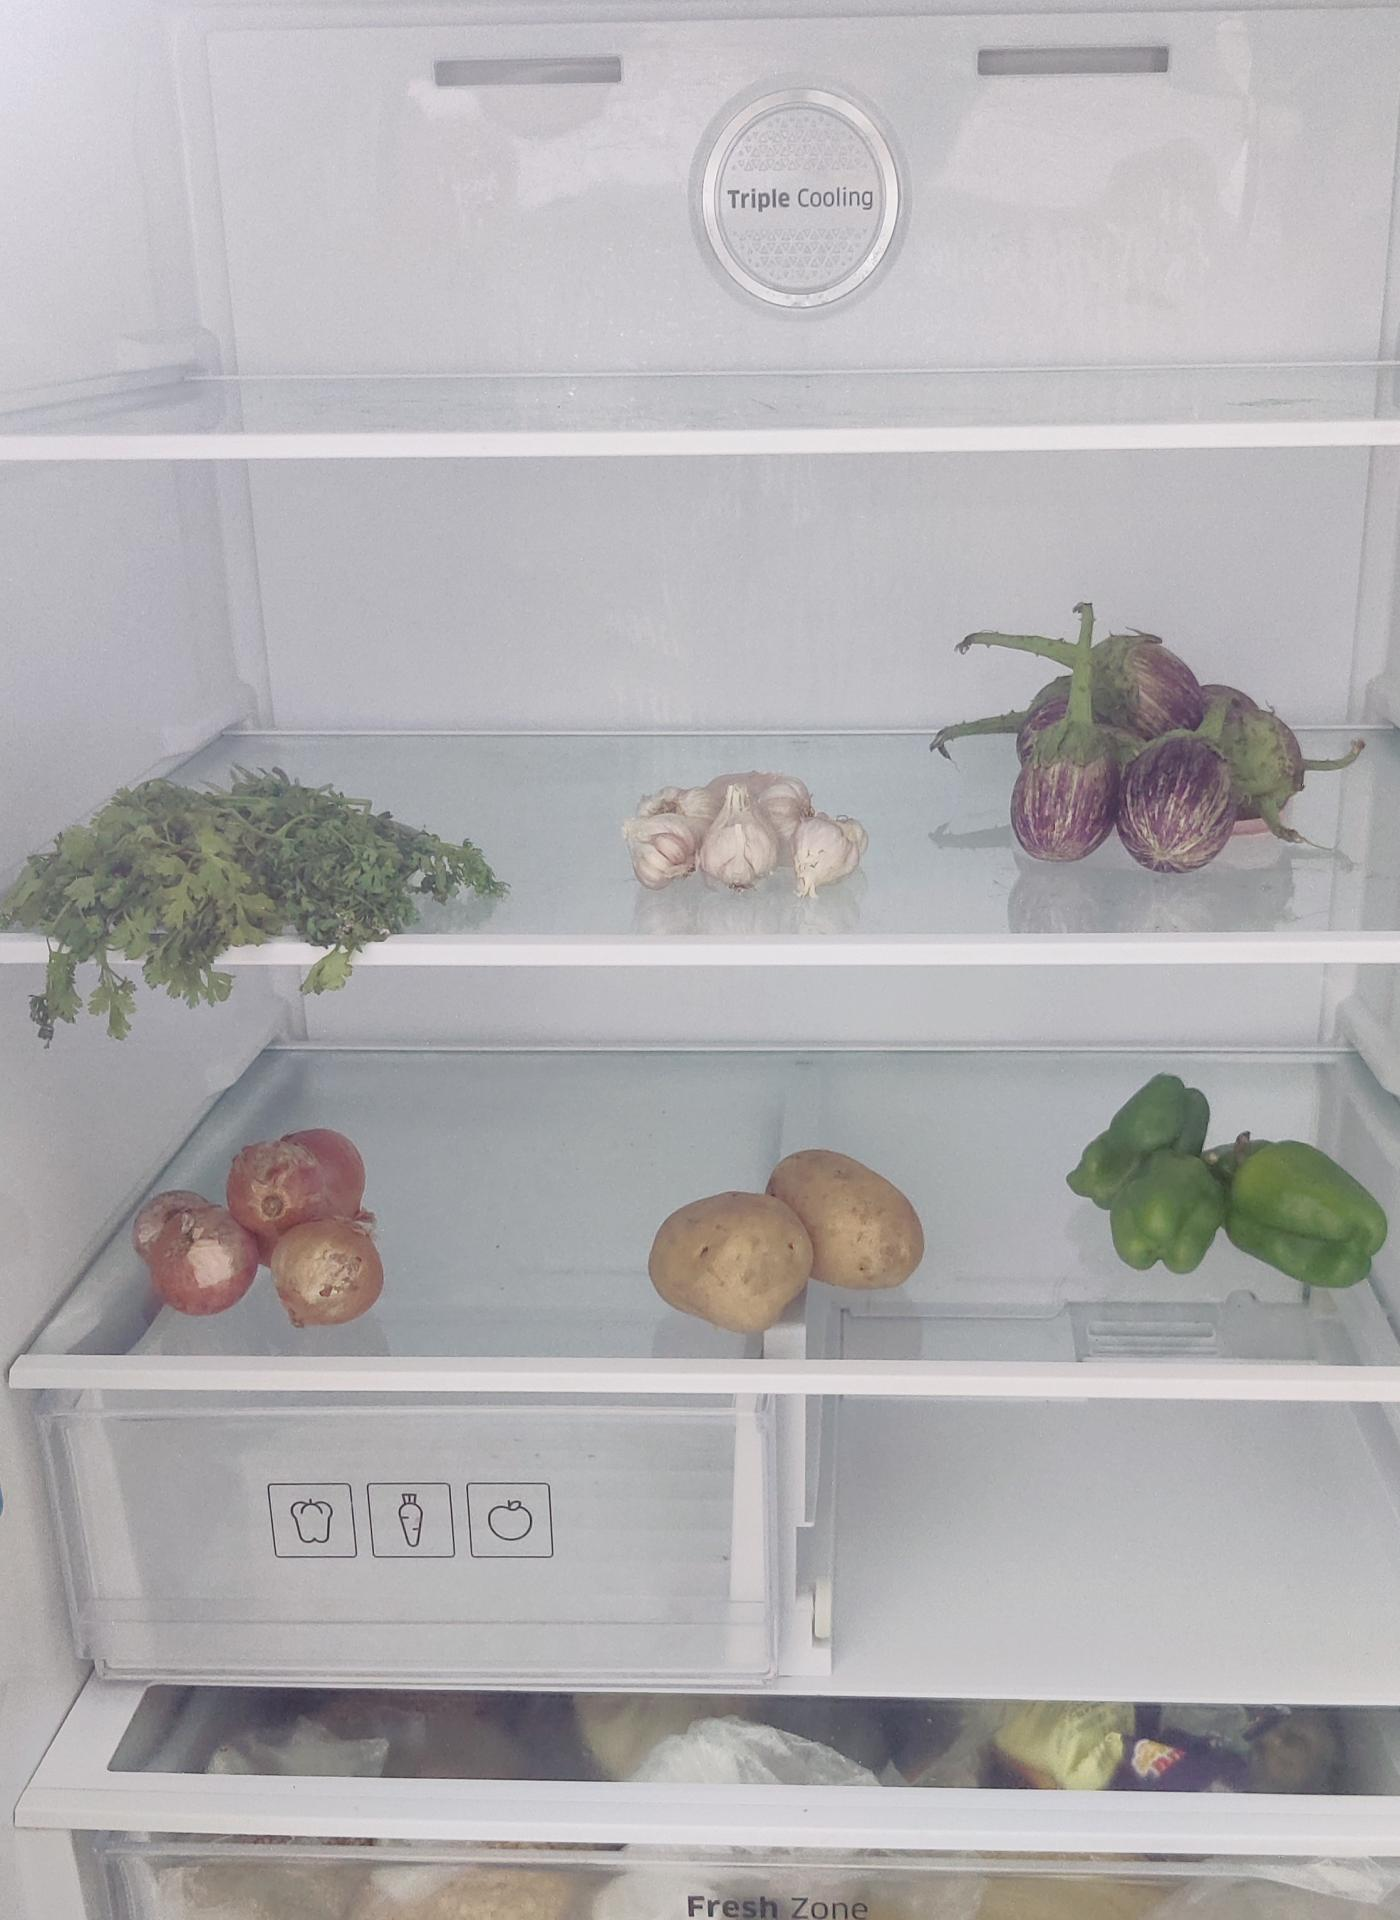brinjal: (1015, 628, 1312, 865)
capsicum: (1072, 1082, 1400, 1297)
coriander: (13, 774, 495, 966)
garlic: (616, 769, 883, 911)
onion: (146, 1117, 382, 1319)
potato: (646, 1149, 926, 1334)
